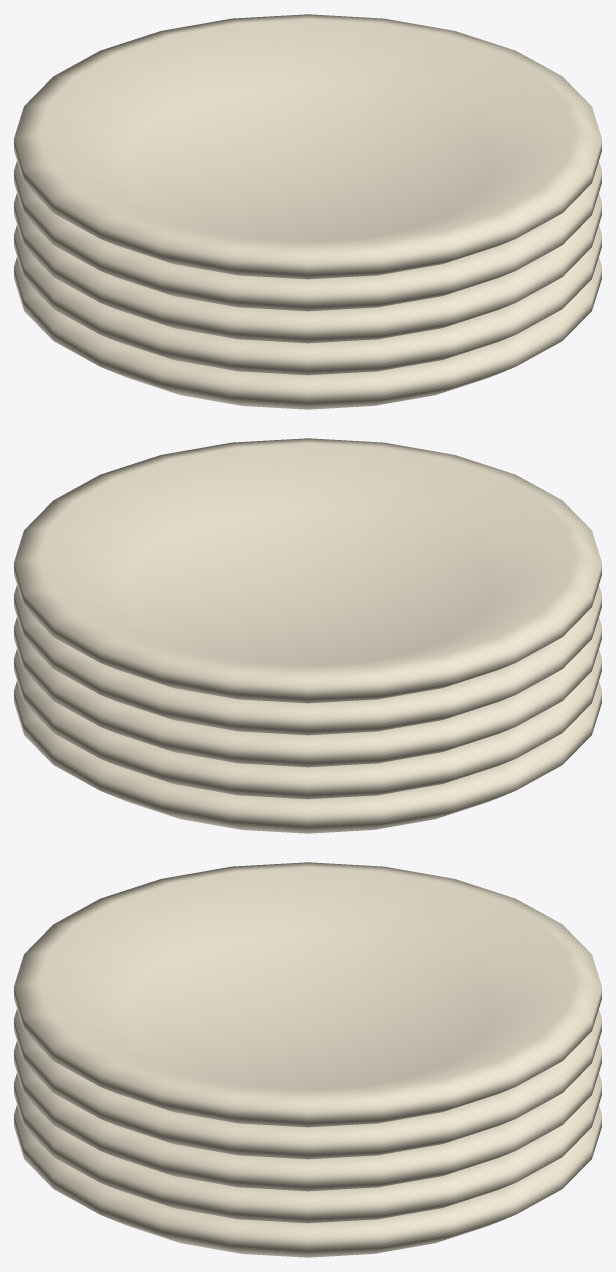
File: HotelTogether-PlateStack.glb
3 renders of one model, top to bottom at view 1: azimuth 30°, elevation 25°; view 2: azimuth 150°, elevation 25°; view 3: azimuth 270°, elevation 25°, orthographic.
Parts seen in each view (by area): view 1: Stack_Plate.004, Stack_Plate, Stack_Plate.002, Stack_Plate.001, Stack_Plate.003; view 2: Stack_Plate.004, Stack_Plate, Stack_Plate.002, Stack_Plate.001, Stack_Plate.003; view 3: Stack_Plate.004, Stack_Plate, Stack_Plate.002, Stack_Plate.001, Stack_Plate.003.
Part boxes in pixels (<box>): Stack_Plate.004: <box>14,14,601,279</box>; Stack_Plate: <box>14,257,601,409</box>; Stack_Plate.002: <box>14,193,601,343</box>; Stack_Plate.001: <box>14,225,601,375</box>; Stack_Plate.003: <box>14,161,601,311</box>; Stack_Plate.004: <box>14,438,601,703</box>; Stack_Plate: <box>14,681,601,833</box>; Stack_Plate.002: <box>14,617,601,767</box>; Stack_Plate.001: <box>14,649,601,799</box>; Stack_Plate.003: <box>14,585,601,735</box>; Stack_Plate.004: <box>14,862,601,1127</box>; Stack_Plate: <box>14,1105,601,1257</box>; Stack_Plate.002: <box>14,1041,601,1191</box>; Stack_Plate.001: <box>14,1073,601,1223</box>; Stack_Plate.003: <box>14,1009,601,1159</box>.
Bounding box in the file's own units: 0.3 × 0.109 × 0.3.
